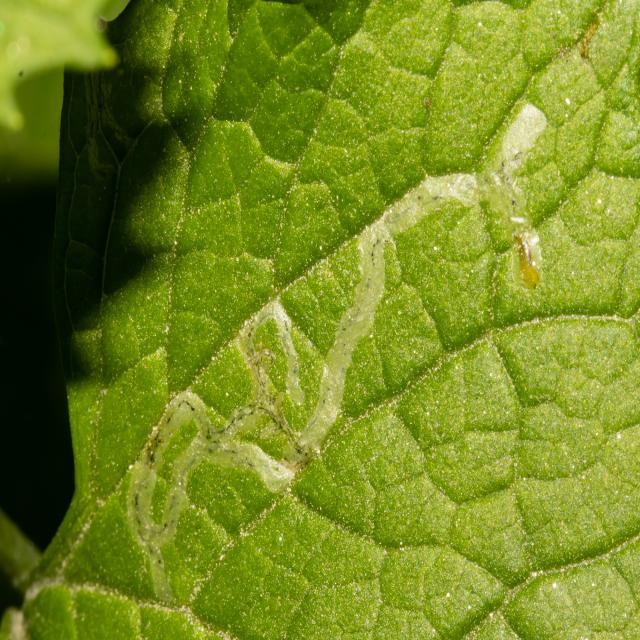Serpentine leafminer: (127, 96, 556, 613)
